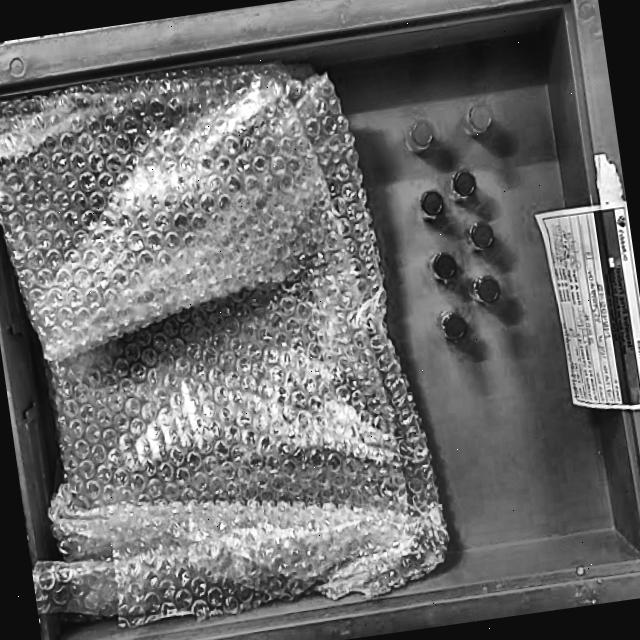vial: (475, 276, 499, 303), (443, 313, 466, 341), (475, 276, 499, 302), (455, 172, 475, 196), (436, 254, 455, 278), (414, 122, 433, 145), (423, 191, 442, 213), (473, 106, 492, 128), (473, 225, 492, 245)
